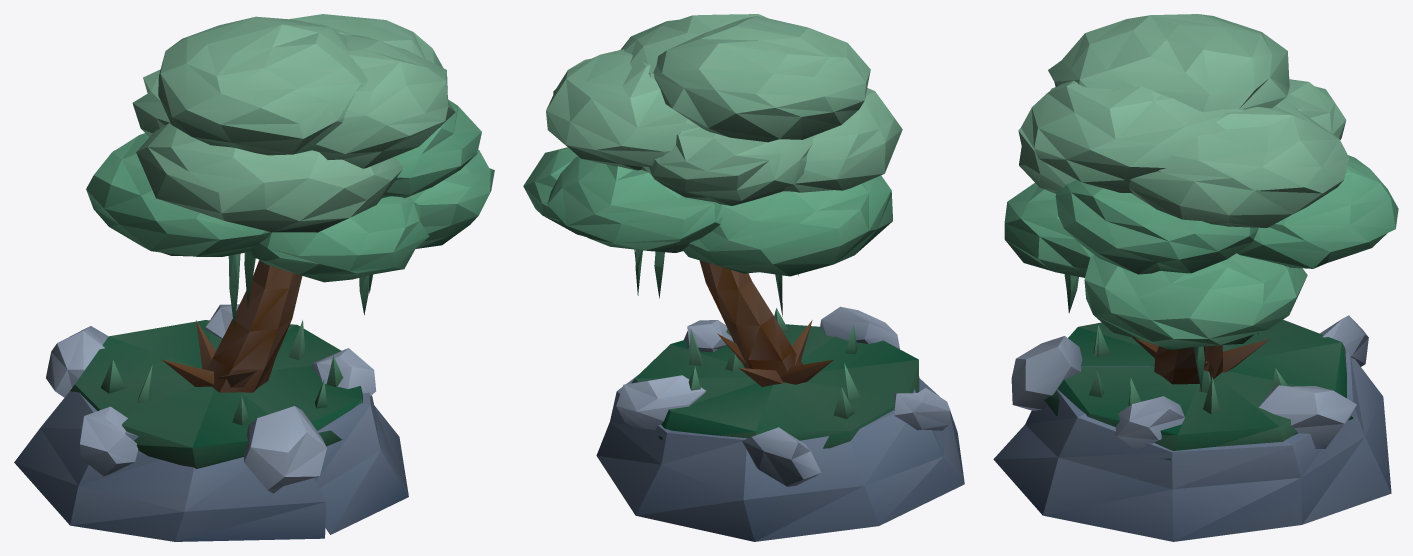
File: pohon_river_emerald_262660.glb
The picture shows the model from 3 angles, left to right: view 1: azimuth 30°, elevation 25°; view 2: azimuth 150°, elevation 25°; view 3: azimuth 270°, elevation 25°; orthographic projection. The views are drawn at different scales.
Parts seen in each view (by area): view 1: Dedaunan_Dan_Sulur, Pulau_Batu_Tepi_Sungai, Batang_Dan_Akar; view 2: Dedaunan_Dan_Sulur, Pulau_Batu_Tepi_Sungai, Batang_Dan_Akar; view 3: Dedaunan_Dan_Sulur, Pulau_Batu_Tepi_Sungai, Batang_Dan_Akar.
Boxes of the visible parts, x1=… form: Dedaunan_Dan_Sulur: x1=86, y1=14, x2=494, y2=328; Pulau_Batu_Tepi_Sungai: x1=14, y1=304, x2=408, y2=541; Batang_Dan_Akar: x1=162, y1=260, x2=302, y2=392; Dedaunan_Dan_Sulur: x1=523, y1=14, x2=902, y2=316; Pulau_Batu_Tepi_Sungai: x1=596, y1=306, x2=964, y2=541; Batang_Dan_Akar: x1=699, y1=260, x2=833, y2=386; Dedaunan_Dan_Sulur: x1=1004, y1=14, x2=1398, y2=391; Pulau_Batu_Tepi_Sungai: x1=993, y1=315, x2=1391, y2=541; Batang_Dan_Akar: x1=1132, y1=337, x2=1269, y2=384.
Size of the model in its own units: 6.97 by 6.65 by 5.46.
